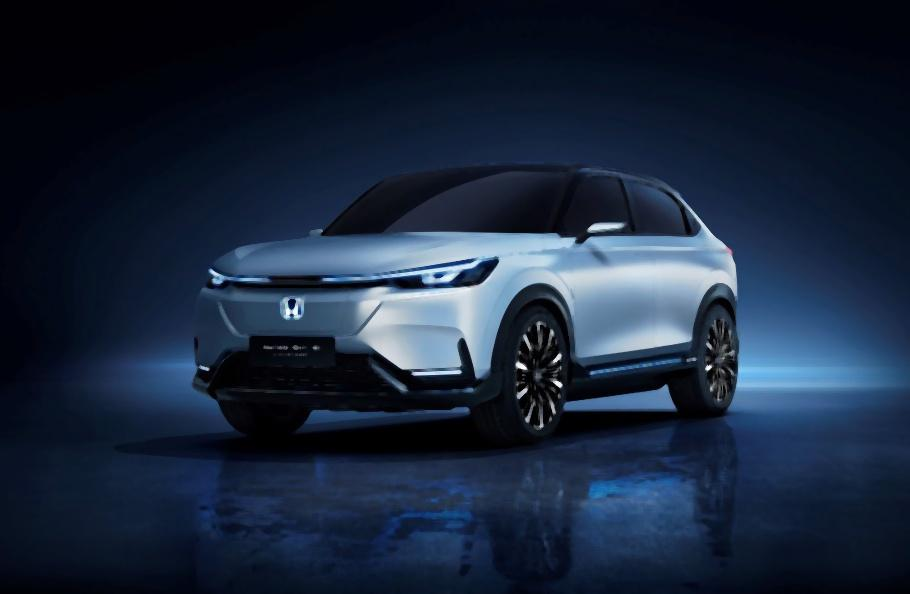Car hood: (206, 228, 560, 279)
Fender - -F-L-: (486, 229, 579, 378)
Fender - -R-L-: (699, 235, 735, 324)
Front bumper: (187, 294, 508, 417)
Headlight - -L-: (386, 254, 504, 296)
Headlight - -R-: (198, 258, 241, 296)
Passenger-s door - -F-L-: (571, 173, 643, 371)
Passenger-s door - -R-L-: (643, 178, 710, 371)
Rear light - -L-: (721, 239, 748, 272)
Side bumper - -L-: (561, 337, 707, 397)
Side mirror - -L-: (571, 207, 641, 255)
Side mirror - -R-: (300, 218, 333, 241)
